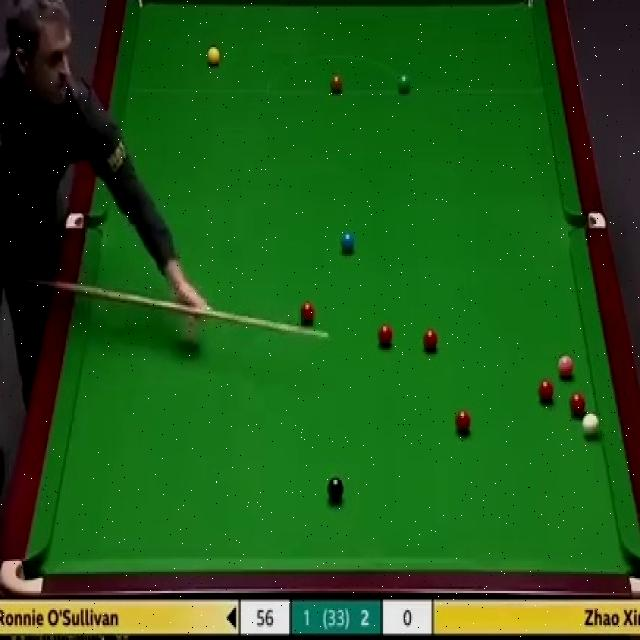black-ball: (326, 476, 345, 502)
blue-ball: (342, 231, 354, 255)
brown-ball: (331, 75, 344, 94)
green-ball: (398, 73, 411, 94)
pink-ball: (558, 353, 575, 380)
red-ball: (453, 409, 472, 435), (570, 390, 586, 416), (424, 325, 439, 352), (377, 323, 392, 349), (538, 380, 555, 402), (301, 299, 315, 322)
white-ball: (583, 412, 600, 441)
yellow-ball: (206, 46, 222, 69)
